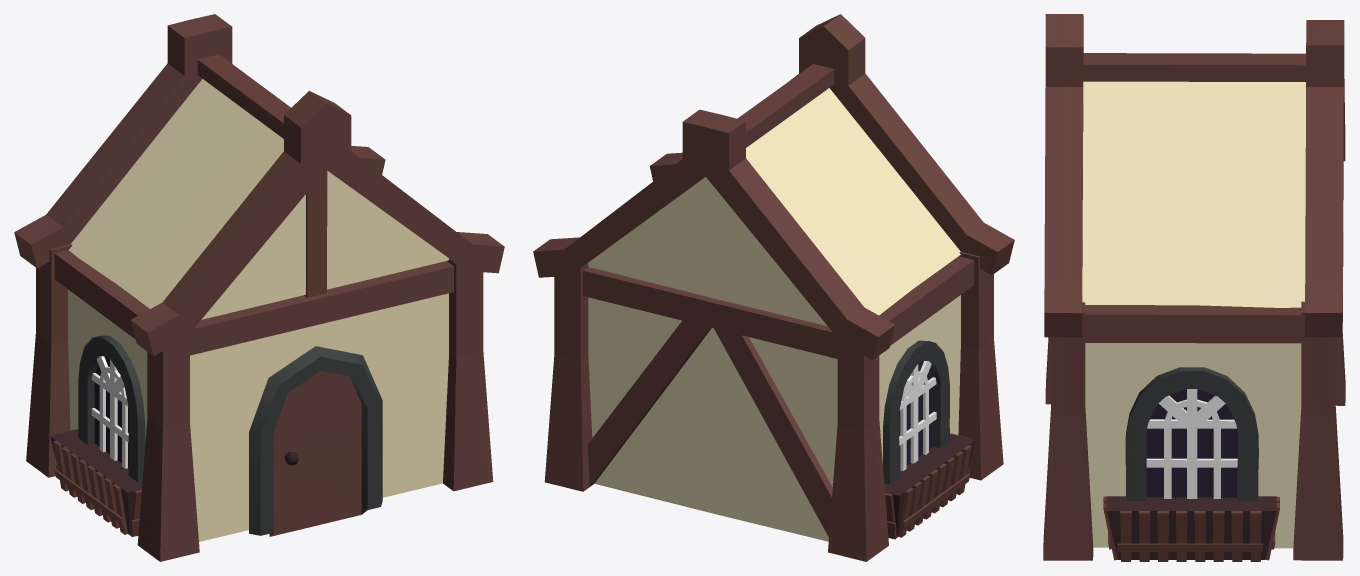
File: dom5.fbx
3 renders of one model, left to right at view 1: azimuth 30°, elevation 25°; view 2: azimuth 150°, elevation 25°; view 3: azimuth 270°, elevation 25°, orthographic. The views are drawn at different scales.
Visible parts, largest first — view 1: Cube.042, Cube.048, Torus.004, Torus.002, Cube.051, Cube.053, Cube.056; view 2: Cube.042, Cube.048, Torus.002, Cube.051, Cube.053, Cube.056; view 3: Cube.042, Cube.048, Torus.005, Cube.049, Cube.051, Cube.057, Cube.050.
Boxes of the visible parts, bbox=[...] form: Cube.042: bbox=[14, 14, 453, 541]; Cube.048: bbox=[130, 91, 504, 561]; Torus.004: bbox=[249, 346, 382, 536]; Torus.002: bbox=[78, 335, 145, 482]; Cube.051: bbox=[197, 54, 290, 138]; Cube.053: bbox=[50, 429, 142, 534]; Cube.056: bbox=[53, 440, 127, 534]; Cube.042: bbox=[533, 88, 973, 561]; Cube.048: bbox=[649, 14, 1014, 480]; Torus.002: bbox=[883, 340, 949, 484]; Cube.051: bbox=[737, 64, 834, 147]; Cube.053: bbox=[884, 434, 975, 537]; Cube.056: bbox=[898, 445, 971, 537]; Cube.042: bbox=[1082, 20, 1345, 560]; Cube.048: bbox=[1043, 14, 1093, 560]; Torus.005: bbox=[1125, 367, 1258, 501]; Cube.049: bbox=[1106, 496, 1276, 559]; Cube.051: bbox=[1083, 53, 1305, 81]; Cube.057: bbox=[1120, 511, 1261, 561]; Cube.050: bbox=[1103, 496, 1279, 560].
Bounding box in the file's own units: 530 × 611 × 356.
